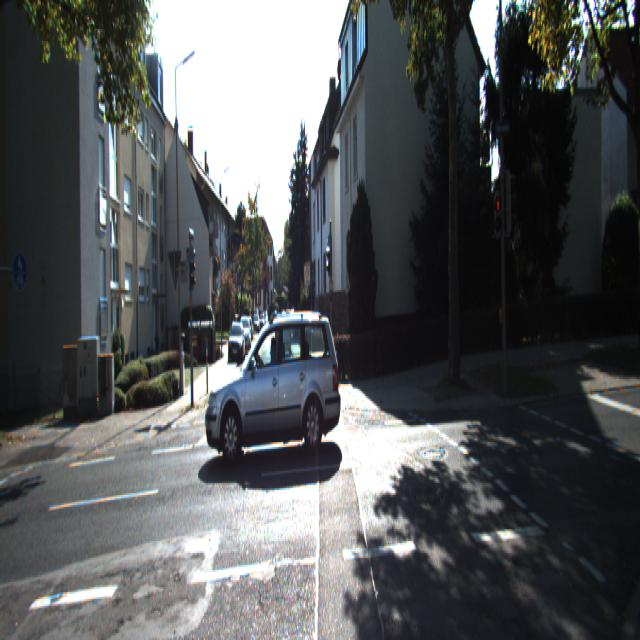Car: (202, 307, 341, 464), (228, 321, 245, 363), (276, 315, 291, 356)
